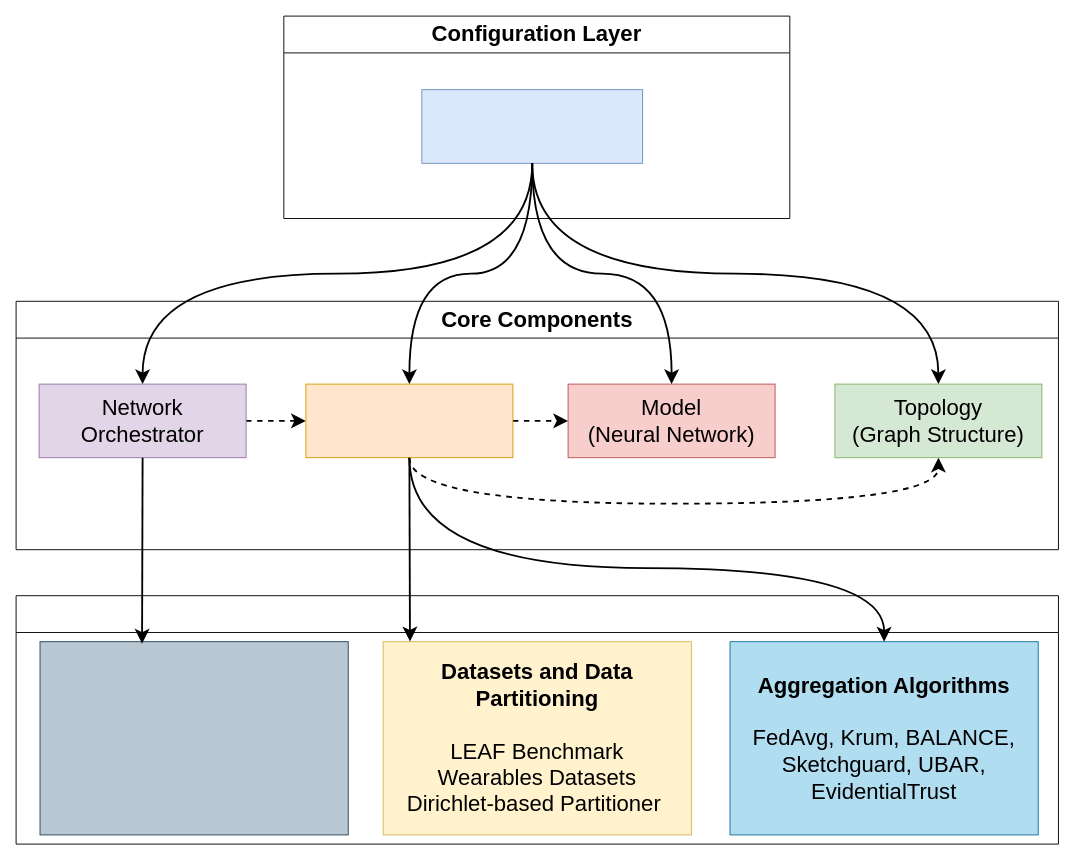
The diagram is 1075 pixels wide and 860 high, and some of its shapes have lost their labels. Each missing label, with the box of its shape:
Attack Simulation Gaussian and Directed Deviation Attacks: (39, 641, 348, 835)
Node (Local Learner): (305, 383, 513, 458)
Pluggable Modules: (15, 595, 1058, 844)
YAML Configuration File: (421, 89, 643, 163)
